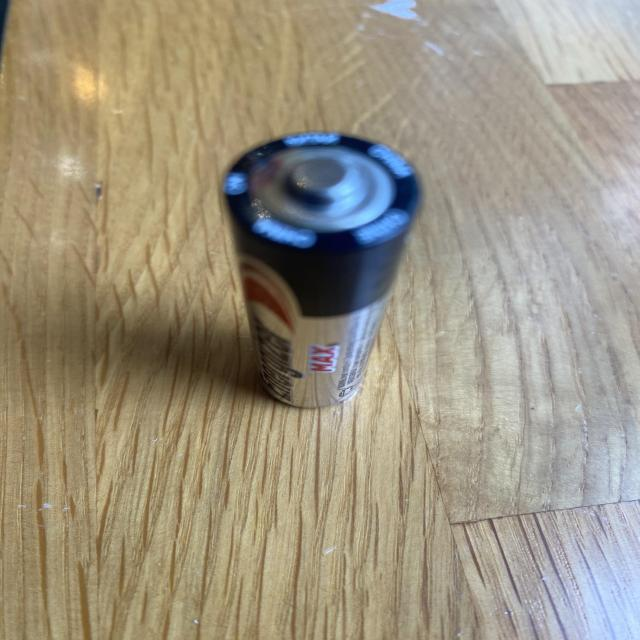AA: (221, 130, 422, 409)
